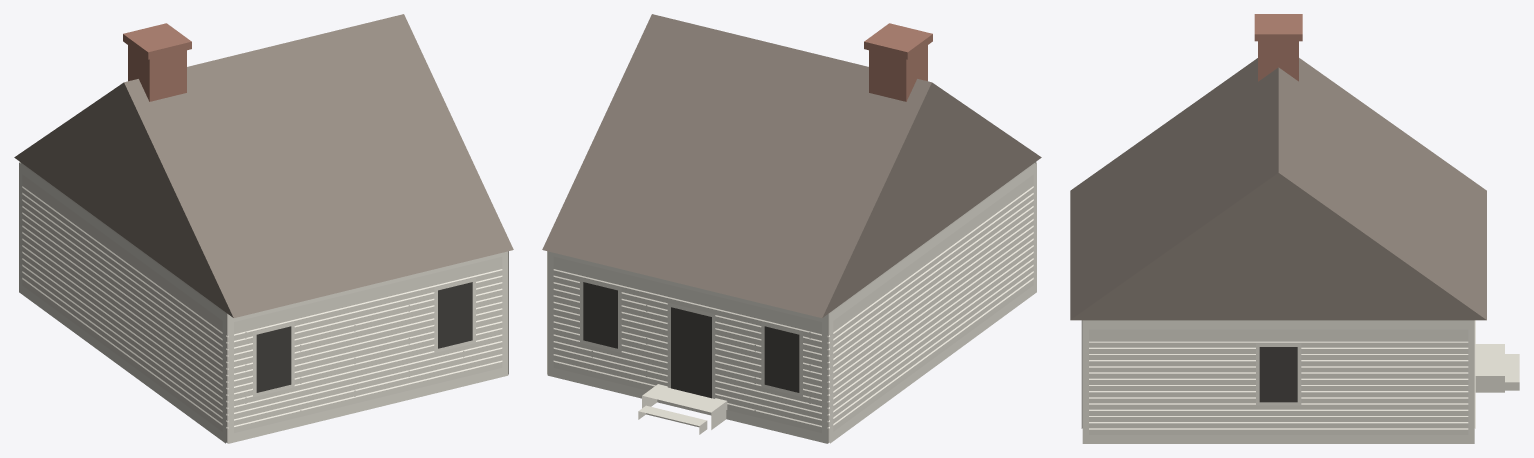
File: recon_1835_south_d4_009__inferred_1835.glb
3 renders of one model, left to right at view 1: azimuth 30°, elevation 25°; view 2: azimuth 150°, elevation 25°; view 3: azimuth 270°, elevation 25°, orthographic. The views are drawn at different scales.
Visible parts, largest first — view 1: recon_1835_south_d4_009__inferred_1835; view 2: recon_1835_south_d4_009__inferred_1835; view 3: recon_1835_south_d4_009__inferred_1835.
Boxes of the visible parts, x1,y1,x2,y2 form: recon_1835_south_d4_009__inferred_1835: (14, 14, 513, 443); recon_1835_south_d4_009__inferred_1835: (542, 14, 1041, 443); recon_1835_south_d4_009__inferred_1835: (1070, 14, 1519, 443).
Size of the model in its own units: 6.36 by 6.89 by 9.2.
